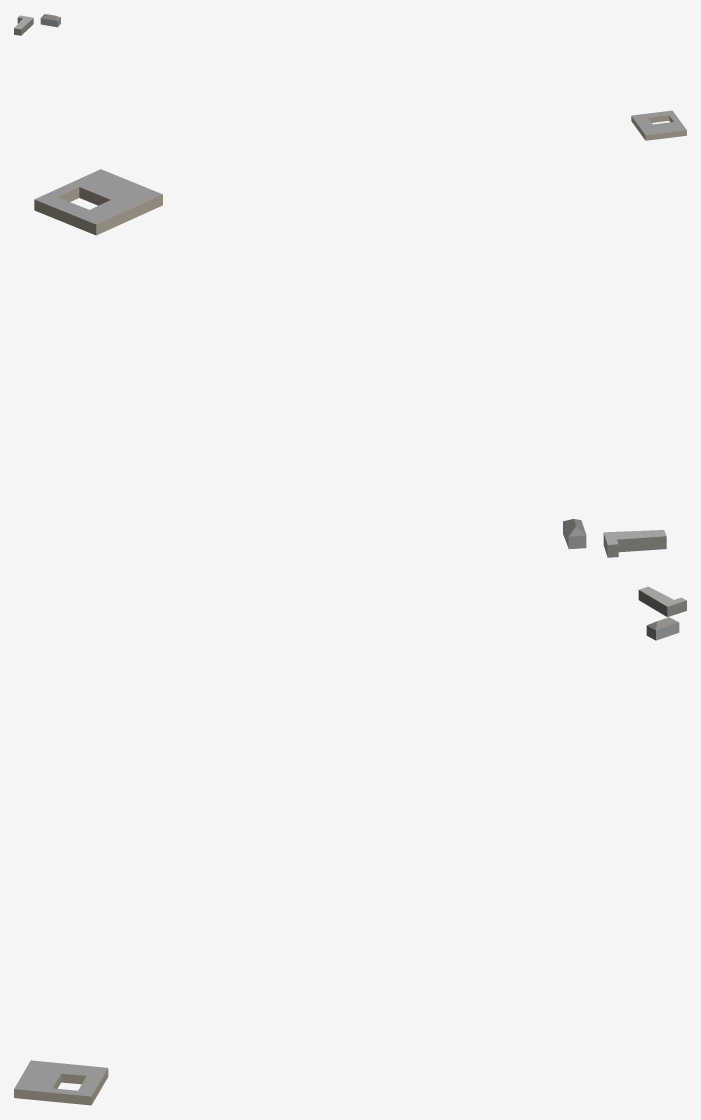
3 views of the same model, one above another, from view 1: azimuth 30°, elevation 25°; view 2: azimuth 150°, elevation 25°; view 3: azimuth 270°, elevation 25° (orthographic). The views are drawn at different scales.
Parts seen in each view (by area): view 1: relation/3966669, way/1213245940, way/1213245939; view 2: relation/3966669, way/1213245940, way/1213245939; view 3: relation/3966669, way/1213245940.
Part boxes in pixels (box(x1,y1,x2,y2)): relation/3966669: box(631, 110, 686, 140); way/1213245940: box(14, 15, 33, 35); way/1213245939: box(40, 14, 60, 27); relation/3966669: box(34, 169, 162, 235); way/1213245940: box(603, 530, 666, 557); way/1213245939: box(563, 518, 586, 549); relation/3966669: box(14, 1060, 108, 1105); way/1213245940: box(638, 586, 686, 616).
Bounding box in the file's own units: 414 × 66.01 × 304.
